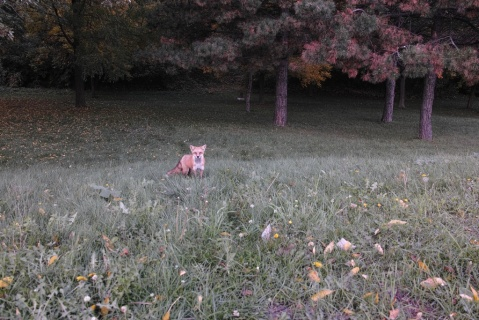Fox: (165, 142, 207, 177)
